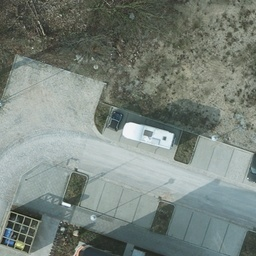car: (107, 110, 125, 131)
